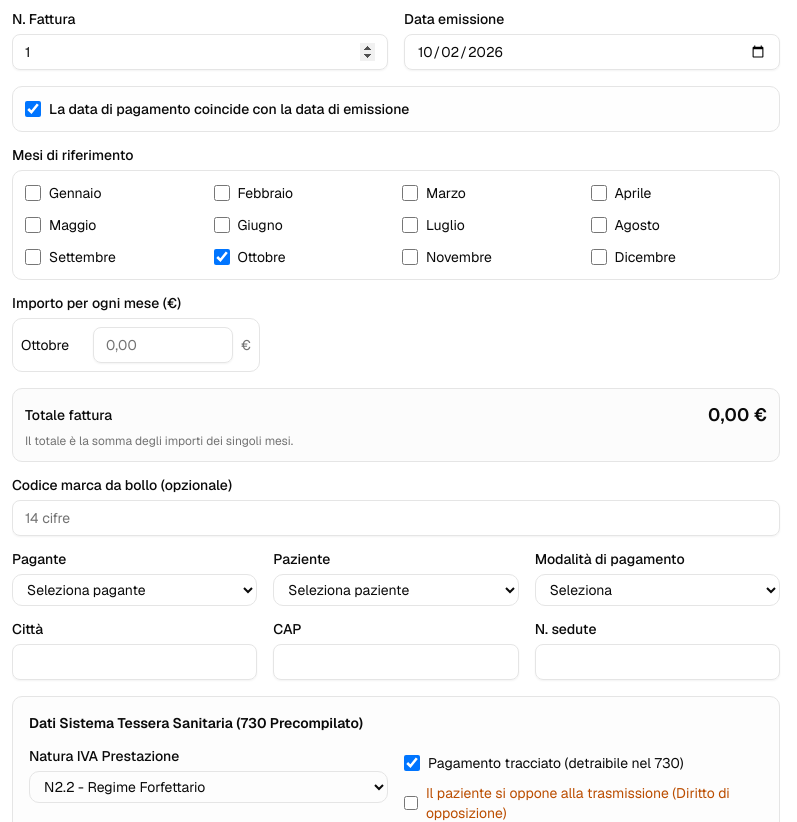
InvoiceForm — LOG-02: autocompilazione città/CAP dal pagante › in creazione, selezionare un pagante autocompila città/CAP (comportamento invariato)
Expected: the field labelled "Città" is empty, x1=12 y1=644 x2=257 y2=680
Select "Rossi Mario" in the dropdown labelled "Pagante". click: x=135, y=590
box: x1=12 y1=574 x2=257 y2=606
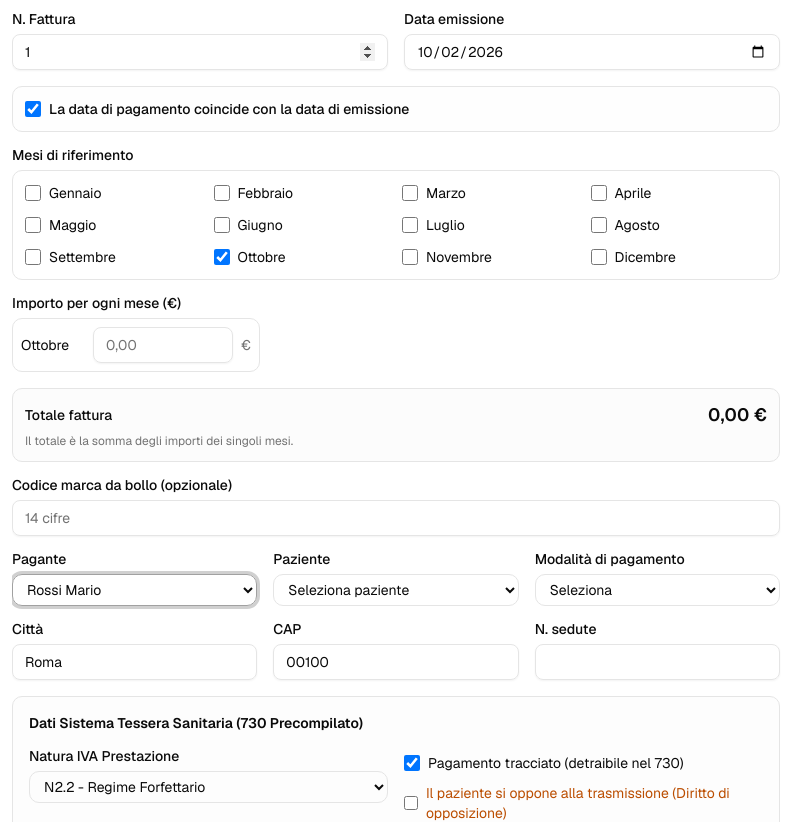
Expected: the field labelled "Città" holds "Roma", x1=12 y1=644 x2=257 y2=680
Expected: the field labelled "CAP" holds "00100", x1=273 y1=644 x2=519 y2=680
